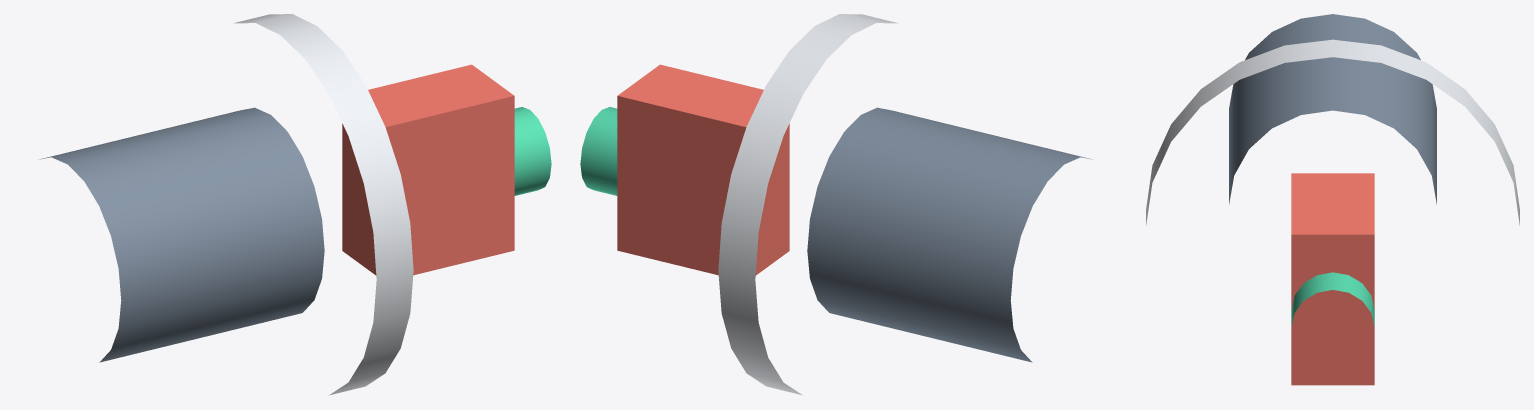
Rendered from second_order_system_transient_response.glb.
3 renders of one model, left to right at view 1: azimuth 30°, elevation 25°; view 2: azimuth 150°, elevation 25°; view 3: azimuth 270°, elevation 25°, orthographic. The views are drawn at different scales.
Parts seen in each view (by area): view 1: DCServoMotorTachogenerator, EddyCurrentDampingBrake, RotaryInertiaFlywheelDisk, AngularPositionPotentiometer; view 2: DCServoMotorTachogenerator, EddyCurrentDampingBrake, RotaryInertiaFlywheelDisk, AngularPositionPotentiometer; view 3: DCServoMotorTachogenerator, EddyCurrentDampingBrake, RotaryInertiaFlywheelDisk, AngularPositionPotentiometer.
Boxes of the visible parts, <box> form: DCServoMotorTachogenerator: <box>39,107,324,362</box>; EddyCurrentDampingBrake: <box>342,64,514,275</box>; RotaryInertiaFlywheelDisk: <box>234,14,413,395</box>; AngularPositionPotentiometer: <box>514,107,551,195</box>; DCServoMotorTachogenerator: <box>807,107,1092,362</box>; EddyCurrentDampingBrake: <box>617,64,789,275</box>; RotaryInertiaFlywheelDisk: <box>718,14,897,395</box>; AngularPositionPotentiometer: <box>580,107,617,195</box>; DCServoMotorTachogenerator: <box>1229,14,1436,204</box>; EddyCurrentDampingBrake: <box>1291,173,1374,385</box>; RotaryInertiaFlywheelDisk: <box>1146,39,1519,225</box>; AngularPositionPotentiometer: <box>1291,272,1374,326</box>.
Bounding box in the file's own units: 1.25 × 0.9 × 0.9.
